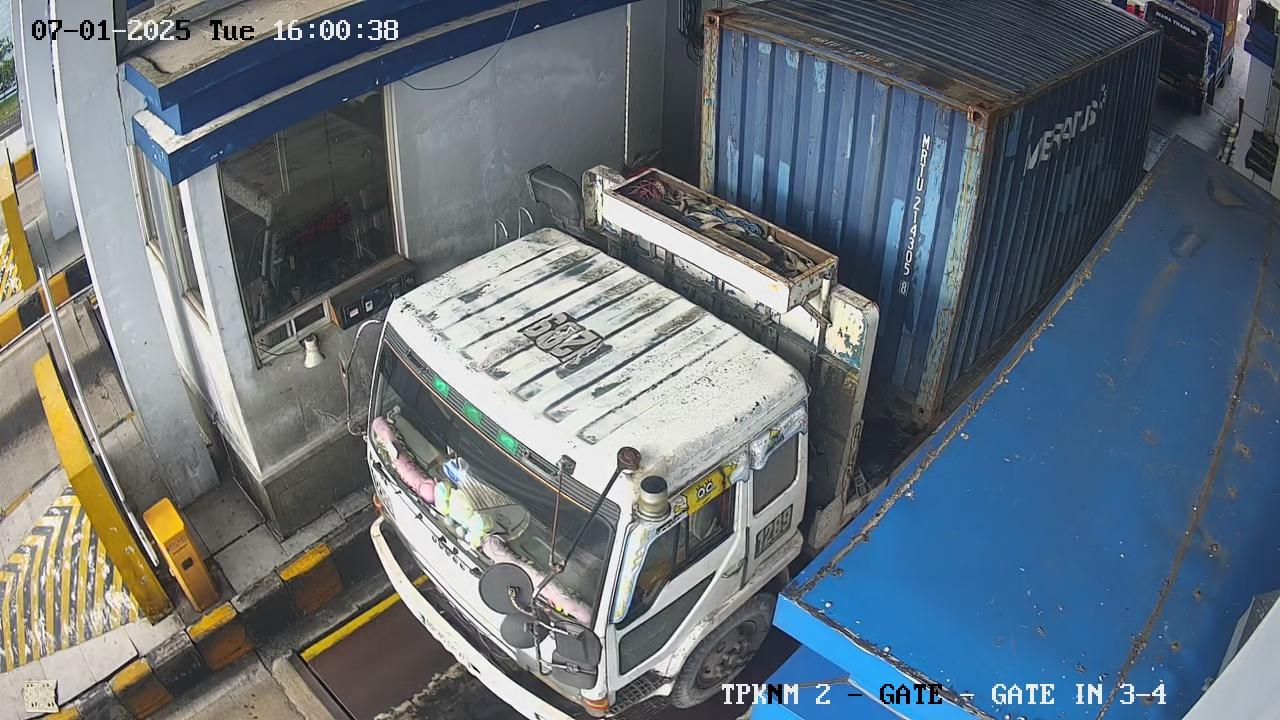Container_ID_Vertikal: (894, 134, 935, 297)
